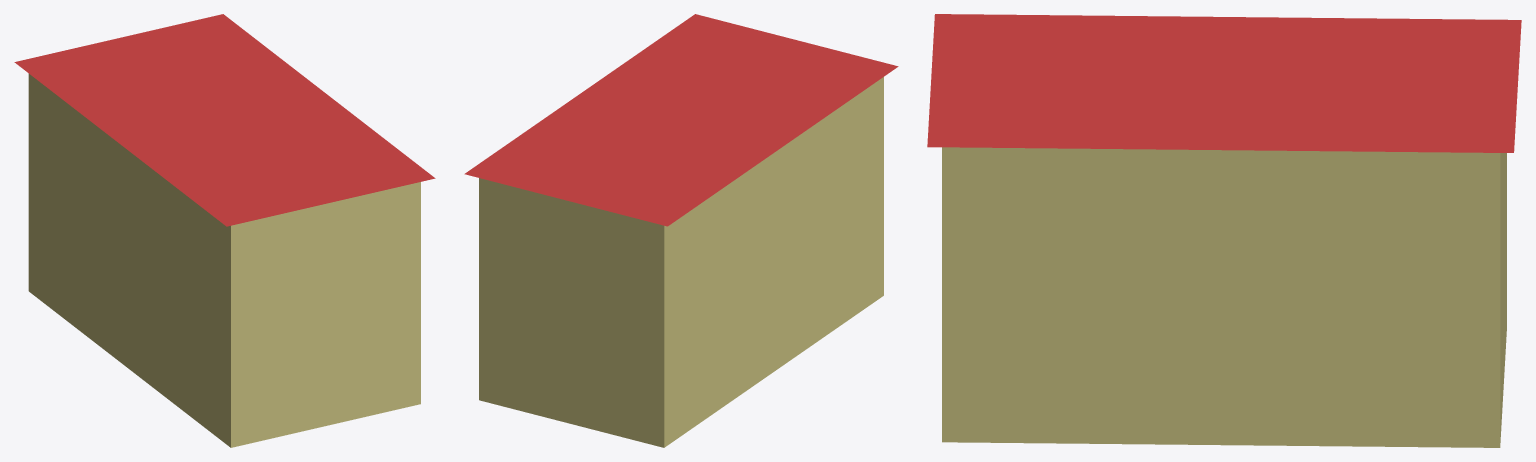
3 renders of one model, left to right at view 1: azimuth 30°, elevation 25°; view 2: azimuth 150°, elevation 25°; view 3: azimuth 270°, elevation 25°, orthographic. The views are drawn at different scales.
Visible parts, largest first — view 1: group_5, group_3, group_4; view 2: group_5, group_3, group_4; view 3: group_5, group_3, group_4.
Part boxes in pixels (x1,y1,x2,y2): group_5: [28, 73, 420, 447]; group_3: [14, 14, 435, 226]; group_4: [15, 14, 434, 225]; group_5: [479, 77, 883, 447]; group_3: [464, 14, 898, 226]; group_4: [465, 14, 897, 225]; group_5: [942, 147, 1506, 447]; group_3: [927, 14, 1521, 152]; group_4: [927, 14, 1521, 152].
Bounding box in the file's own units: 5.8 × 10.48 × 5.86.
